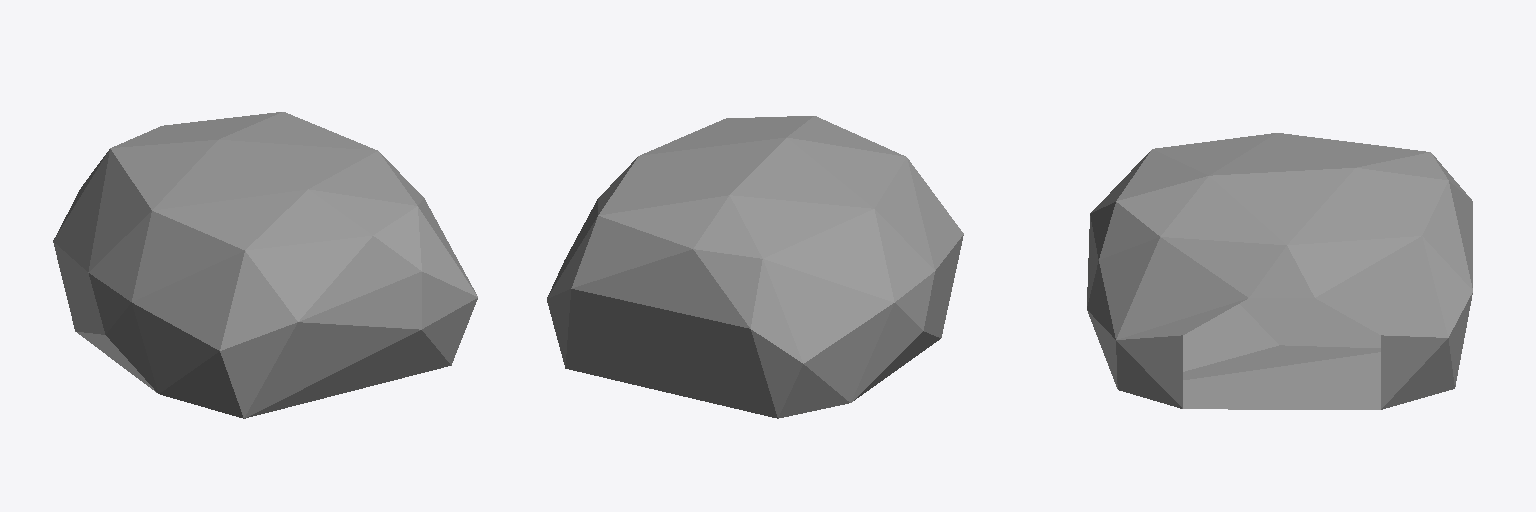
The model's file is Mesh_CavePack_Room_Square_End_Small_lod2.obj.
3 views of the same model, side by side, from view 1: azimuth 30°, elevation 25°; view 2: azimuth 150°, elevation 25°; view 3: azimuth 270°, elevation 25° (orthographic).
Visible parts, largest first — view 1: Plane.017; view 2: Plane.017; view 3: Plane.017.
Boxes of the visible parts, x1,y1,x2,y2 form: Plane.017: [53, 112, 477, 418]; Plane.017: [547, 116, 963, 418]; Plane.017: [1087, 133, 1472, 409].
Size of the model in its own units: 17.17 by 9.49 by 18.79.